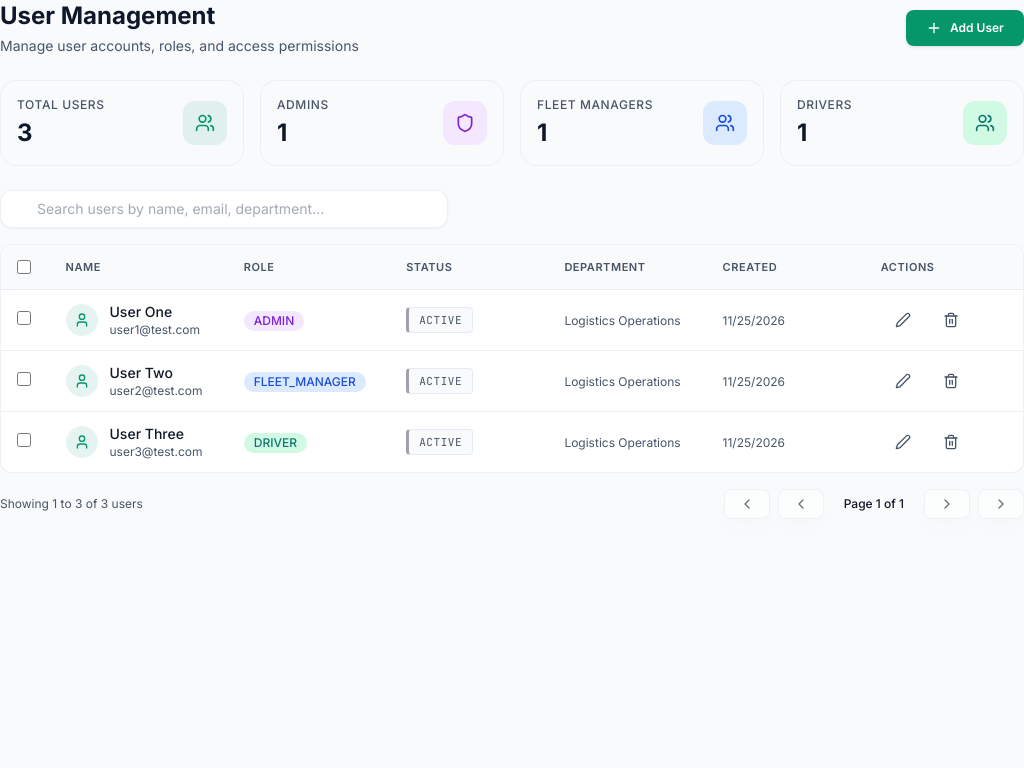
Test case: UserManagementPage › Create User Flow › opens create modal when Add User button clicked
The image size is (1024, 768).
Click the button "Add User" at (965, 28), box [906,10,1023,46]
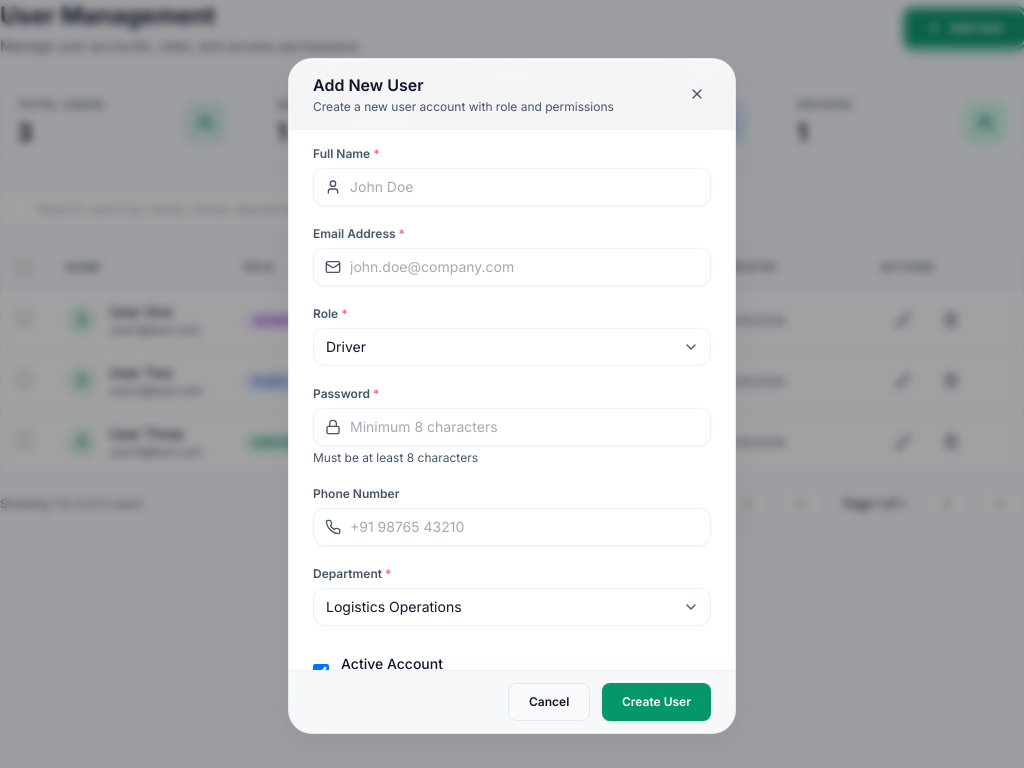
Expected: the heading "Add New User" is shown, [313,75,424,95]
